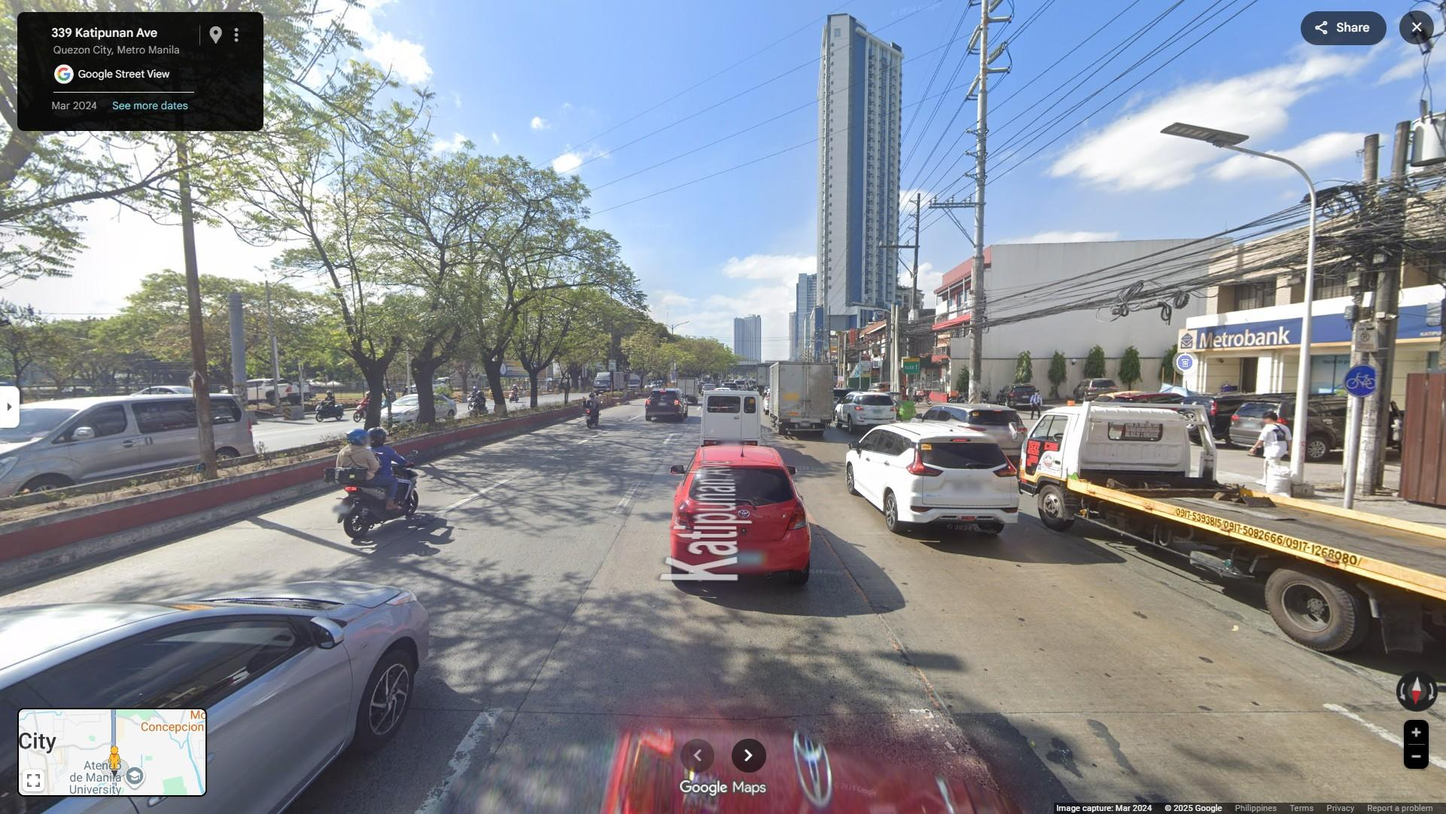pedestrian: (1249, 410, 1294, 491), (1030, 389, 1042, 421)
